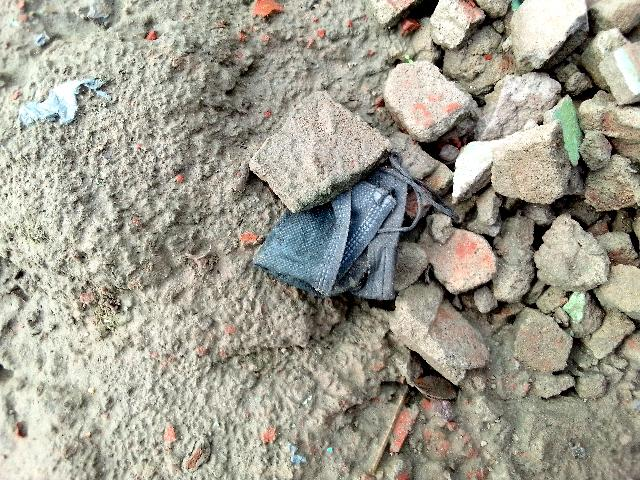mask: (285, 168, 401, 305)
